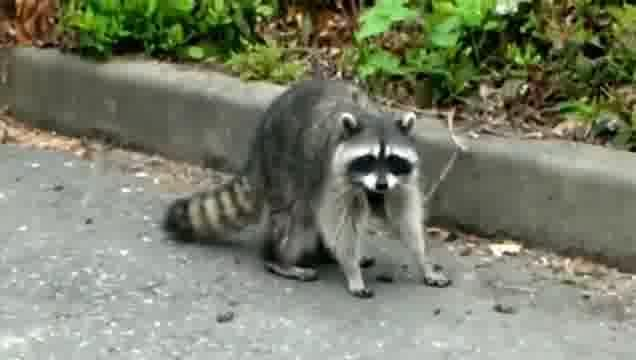raccoon: (166, 79, 471, 299)
